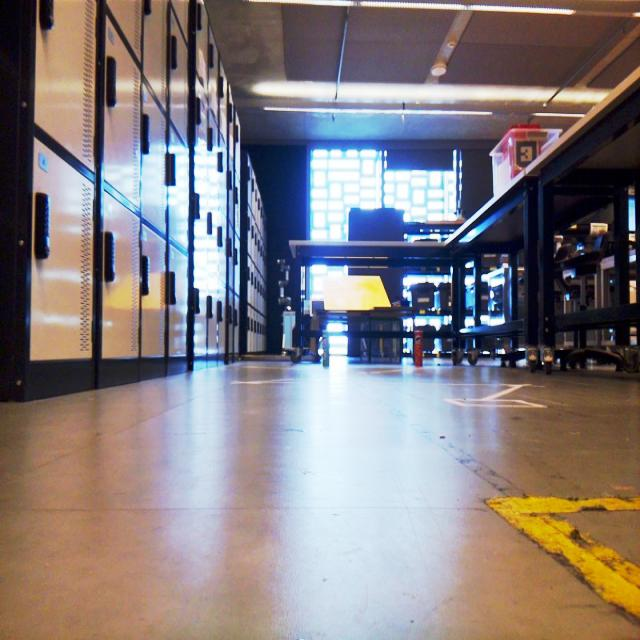greenpringles: (313, 319, 342, 373)
redpringles: (412, 318, 430, 373)
